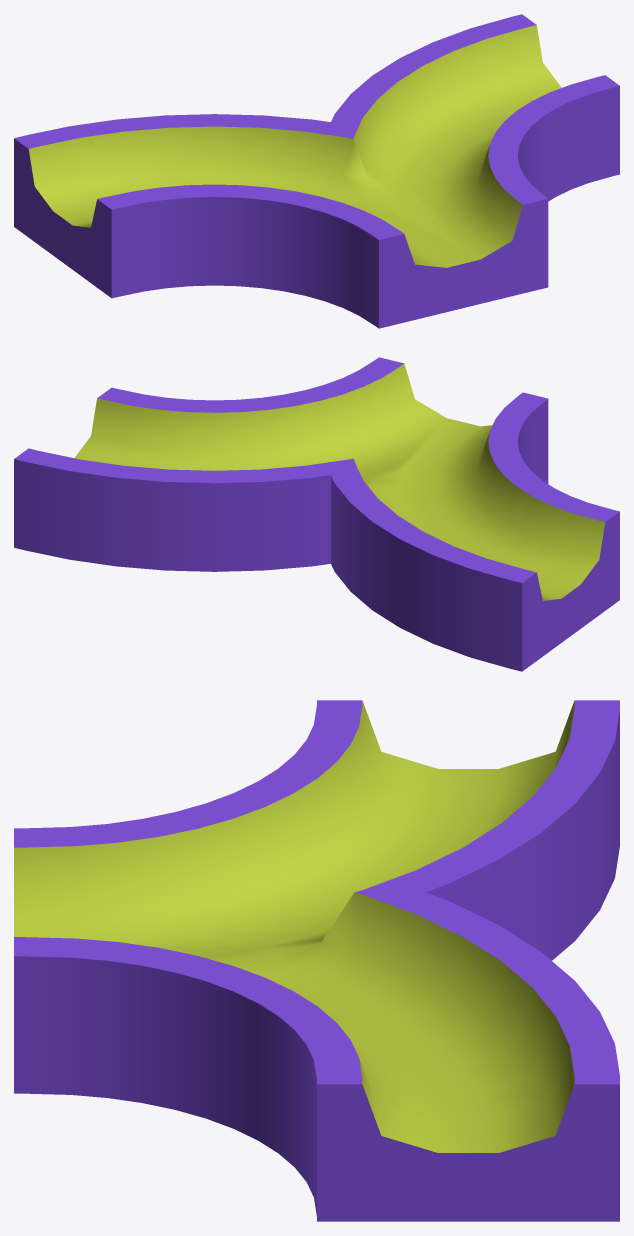
The model's file is split_double_sides-col.dae.
3 renders of one model, top to bottom at view 1: azimuth 30°, elevation 25°; view 2: azimuth 150°, elevation 25°; view 3: azimuth 270°, elevation 25°, orthographic. The views are drawn at different scales.
Visible parts, largest first — view 1: split_double_sides-col; view 2: split_double_sides-col; view 3: split_double_sides-col.
Part boxes in pixels (x1,y1,x2,y2): split_double_sides-col: (14,14,619,328); split_double_sides-col: (14,357,619,671); split_double_sides-col: (14,700,619,1221).
Bounding box in the file's own units: 3 × 2 × 0.5.
